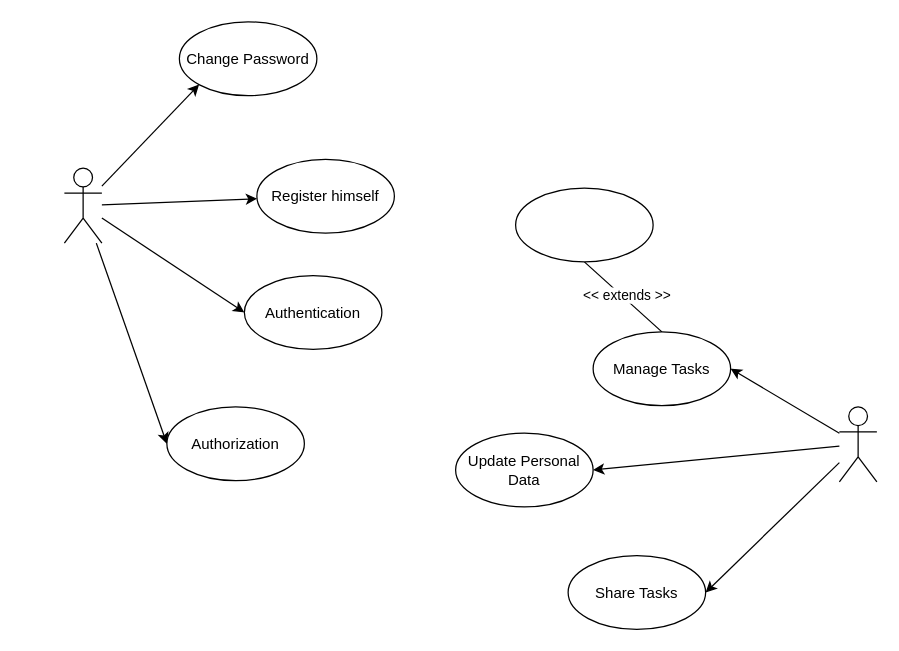
Some shapes in this 899 by 651 pixel diagram are drawn without their labels. Here are the shapes that lost their labels. From the top down, the centre of each, then its label:
At (x=82, y=205): "Anonymous visitor".
At (x=583, y=224): "Notify task deadline".
At (x=857, y=444): "User".
